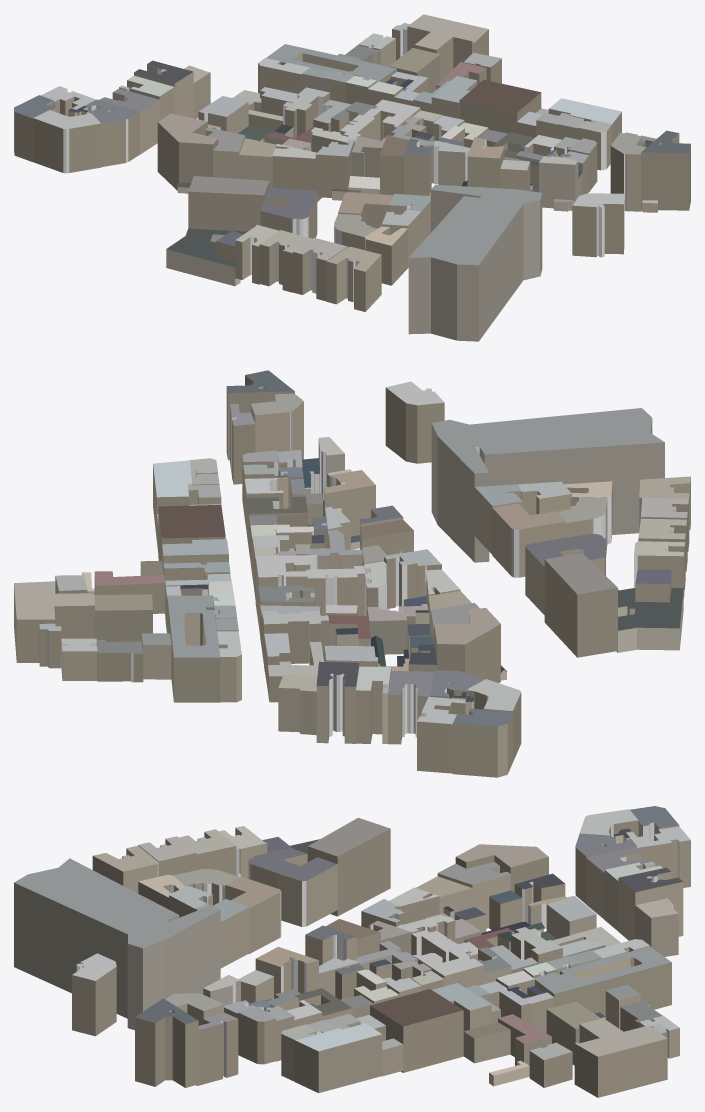
3 renders of one model, top to bottom at view 1: azimuth 30°, elevation 25°; view 2: azimuth 150°, elevation 25°; view 3: azimuth 270°, elevation 25°, orthographic. The views are drawn at different scales.
Visible parts, largest first — view 1: tuile; view 2: tuile; view 3: tuile.
Boxes of the visible parts, x1=… form: tuile: x1=14, y1=14, x2=690, y2=341; tuile: x1=14, y1=370, x2=690, y2=777; tuile: x1=14, y1=806, x2=690, y2=1097.
Bounding box in the file's own units: 253 × 44.47 × 294.
